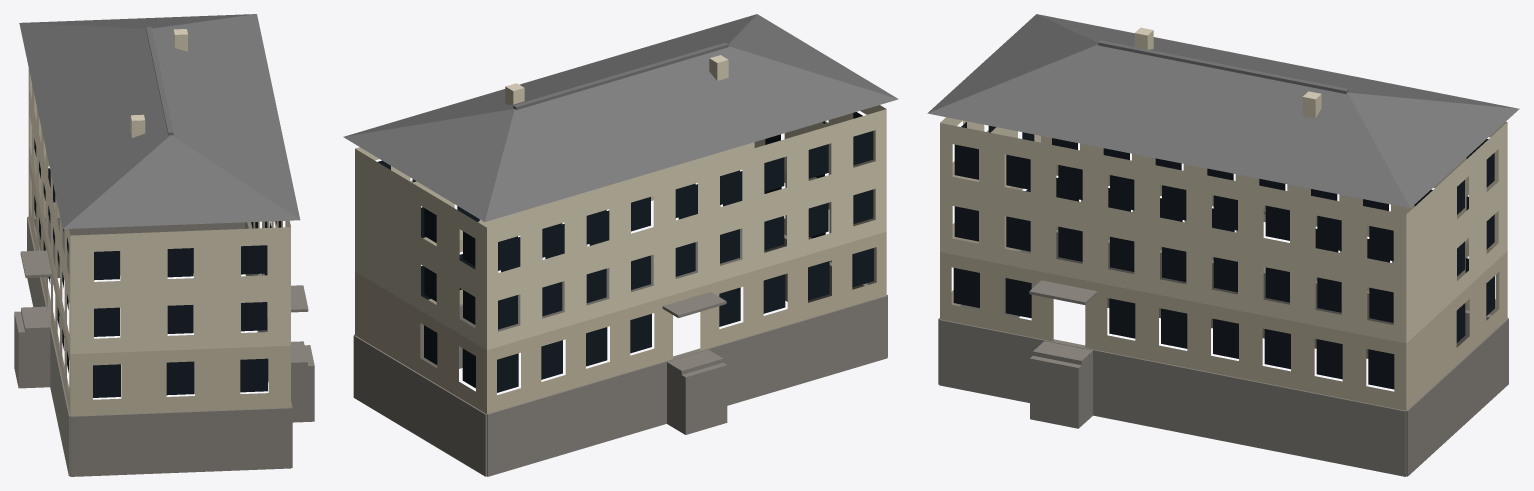
The model's file is voronina11.lod.glb.
3 views of the same model, side by side, from view 1: azimuth 30°, elevation 25°; view 2: azimuth 150°, elevation 25°; view 3: azimuth 270°, elevation 25° (orthographic). The views are drawn at different scales.
Visible parts, largest first — view 1: voronina11_roof, voronina11_wall, voronina11_stone, voronina11_wall2, voronina11_glass; view 2: voronina11_wall, voronina11_roof, voronina11_stone, voronina11_wall2, voronina11_glass; view 3: voronina11_wall, voronina11_roof, voronina11_stone, voronina11_wall2, voronina11_glass.
Boxes of the visible parts, x1,y1,x2,y2 form: voronina11_roof: [19, 14, 300, 228]; voronina11_wall: [28, 29, 290, 354]; voronina11_stone: [14, 216, 314, 476]; voronina11_wall2: [28, 154, 290, 415]; voronina11_glass: [34, 139, 281, 397]; voronina11_wall: [355, 55, 886, 349]; voronina11_roof: [343, 14, 898, 221]; voronina11_stone: [353, 228, 887, 476]; voronina11_wall2: [355, 170, 886, 413]; voronina11_glass: [378, 112, 873, 392]; voronina11_wall: [940, 27, 1507, 343]; voronina11_roof: [927, 14, 1519, 208]; voronina11_stone: [938, 211, 1508, 476]; voronina11_wall2: [940, 164, 1507, 410]; voronina11_glass: [953, 122, 1494, 389].
Bounding box in the file's own units: 22.29 × 17.2 × 28.72.
